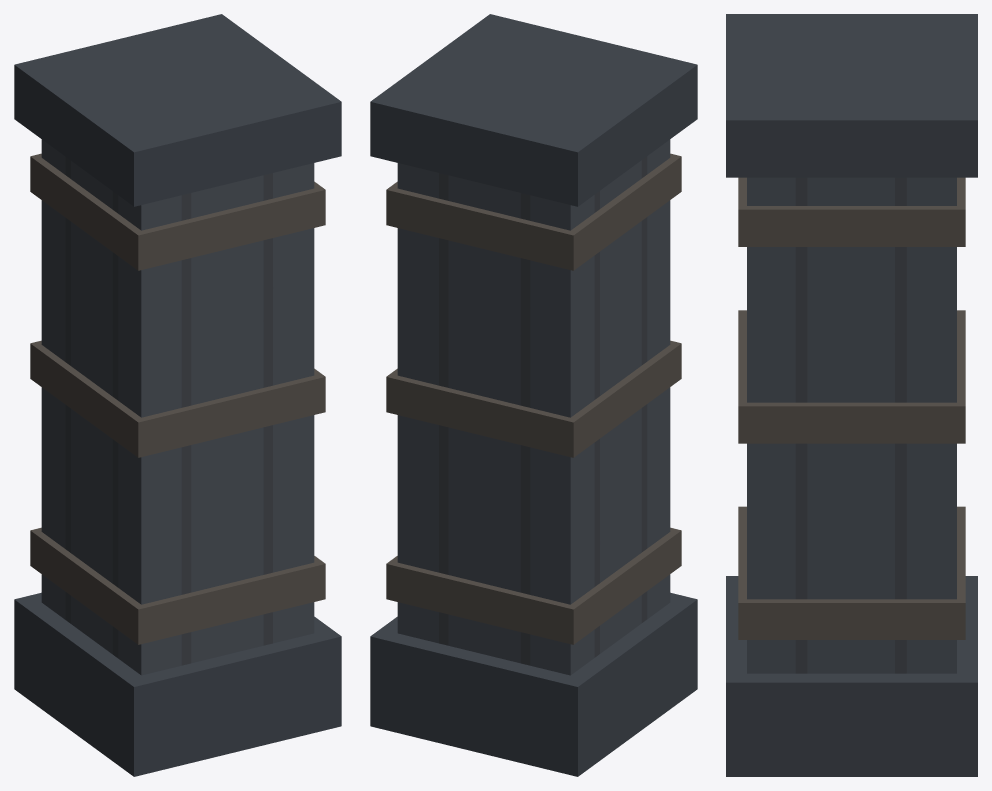
The model's file is Pillar 06.fbx.
3 views of the same model, side by side, from view 1: azimuth 30°, elevation 25°; view 2: azimuth 150°, elevation 25°; view 3: azimuth 270°, elevation 25° (orthographic). The views are drawn at different scales.
Parts seen in each view (by area): view 1: Pillar_06; view 2: Pillar_06; view 3: Pillar_06.
Boxes of the visible parts, x1,y1,x2,y2 form: Pillar_06: (14, 14, 341, 776); Pillar_06: (370, 14, 697, 776); Pillar_06: (726, 14, 977, 776).
Bounding box in the file's own units: 96 × 276 × 96.
